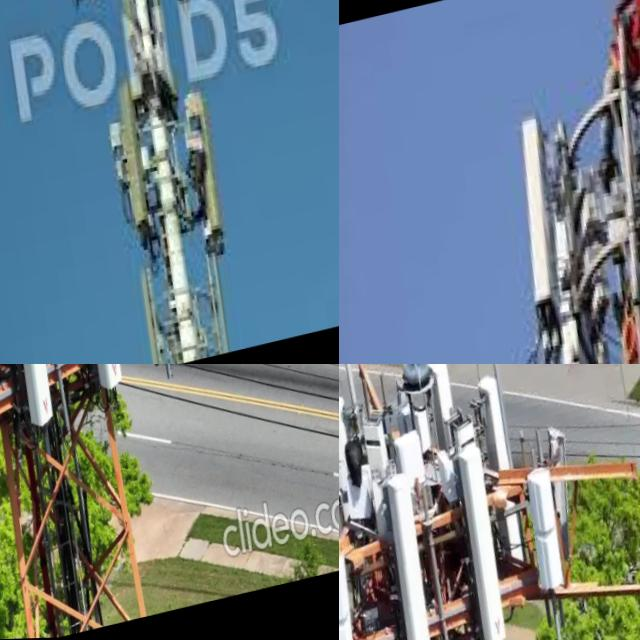GSM Antenna: (491, 103, 594, 319), (447, 444, 530, 640), (373, 467, 461, 640), (180, 86, 250, 258), (110, 77, 172, 240), (517, 463, 580, 600), (537, 422, 592, 554), (470, 372, 522, 487), (0, 364, 78, 438), (421, 364, 471, 459), (339, 547, 376, 640), (339, 390, 369, 500), (339, 439, 352, 561)
